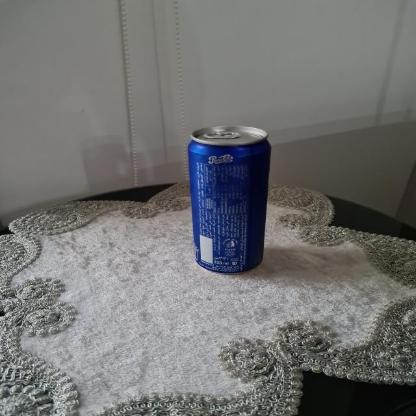Can: (188, 127, 274, 275)
